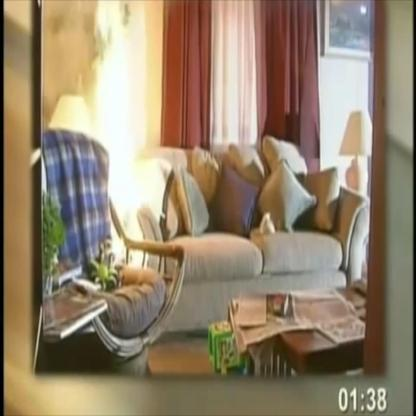fire: (74, 0, 166, 271)
